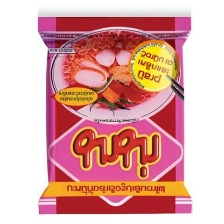snack: (28, 10, 200, 219)
